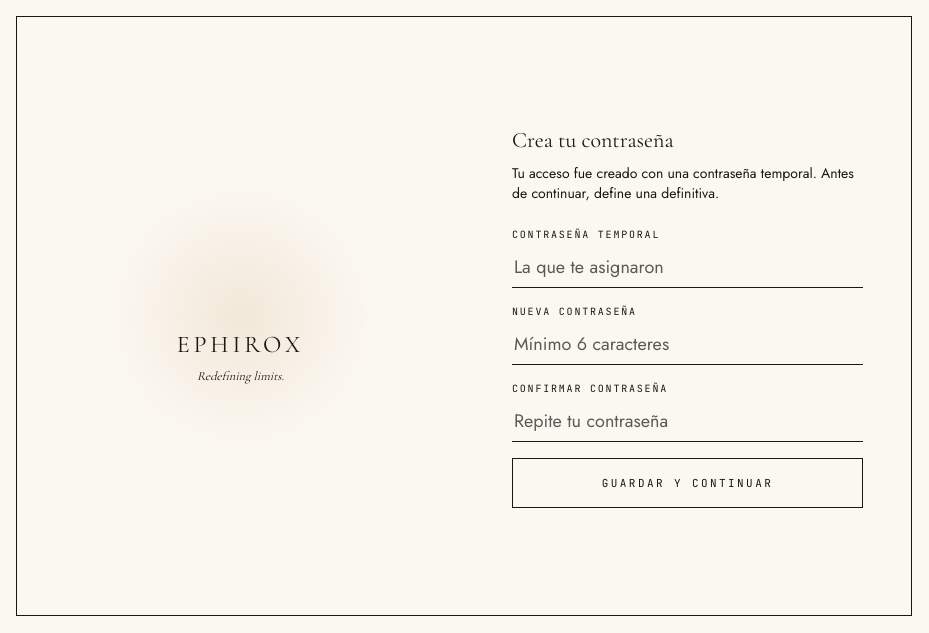
Scenario: SetPasswordPage › shows an error when the new password and confirmation do not match
Type "temporal123" into the password field labelled "Contraseña temporal" at (688, 268), box left=512, top=248, right=863, bottom=288
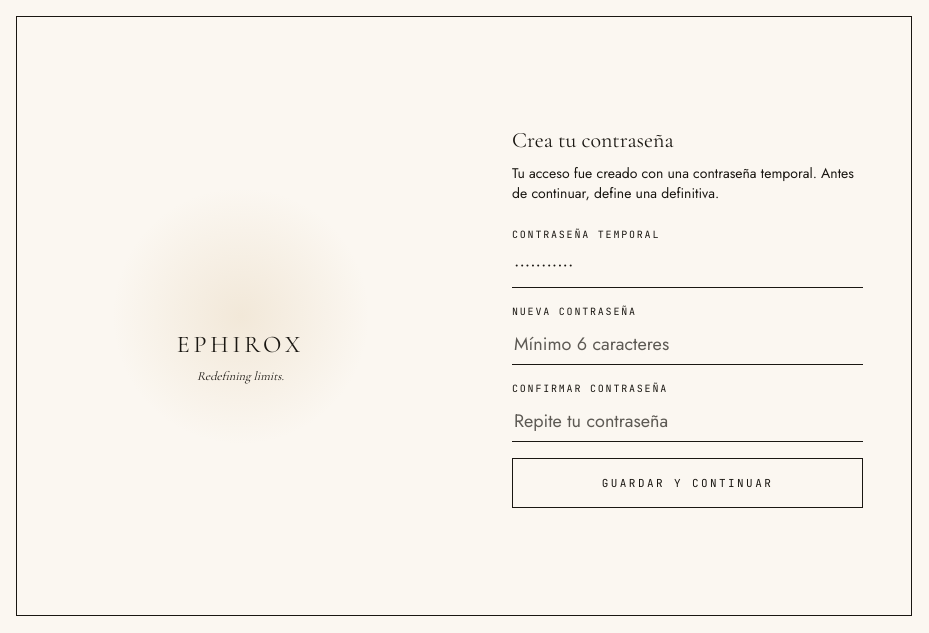
Type "nueva-buena-123" into the password field labelled "Nueva contraseña" at (688, 345), box left=512, top=325, right=863, bottom=365
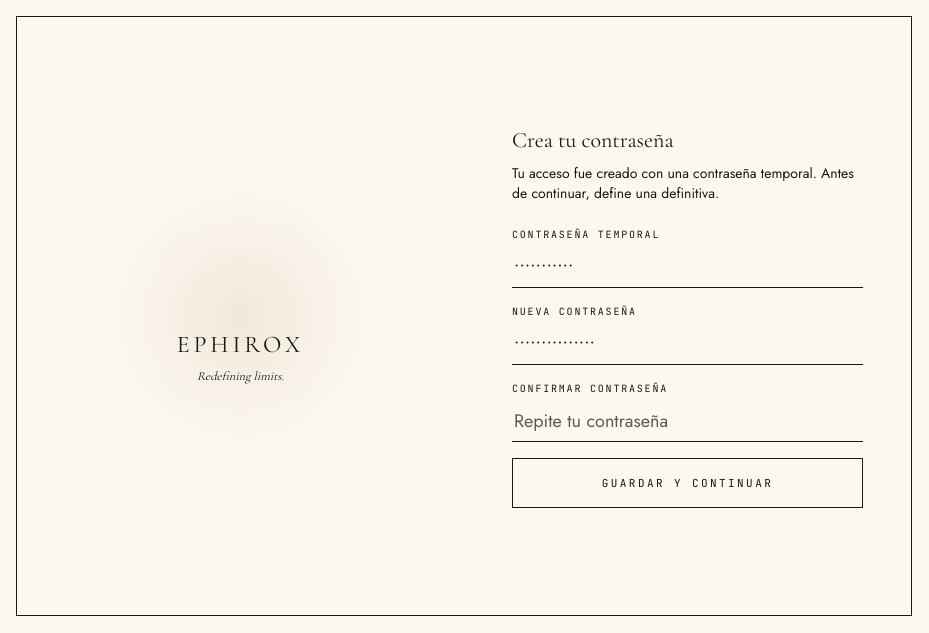
Type "otra-cosa" into the password field labelled "Confirmar contraseña" at (688, 422), box left=512, top=402, right=863, bottom=442
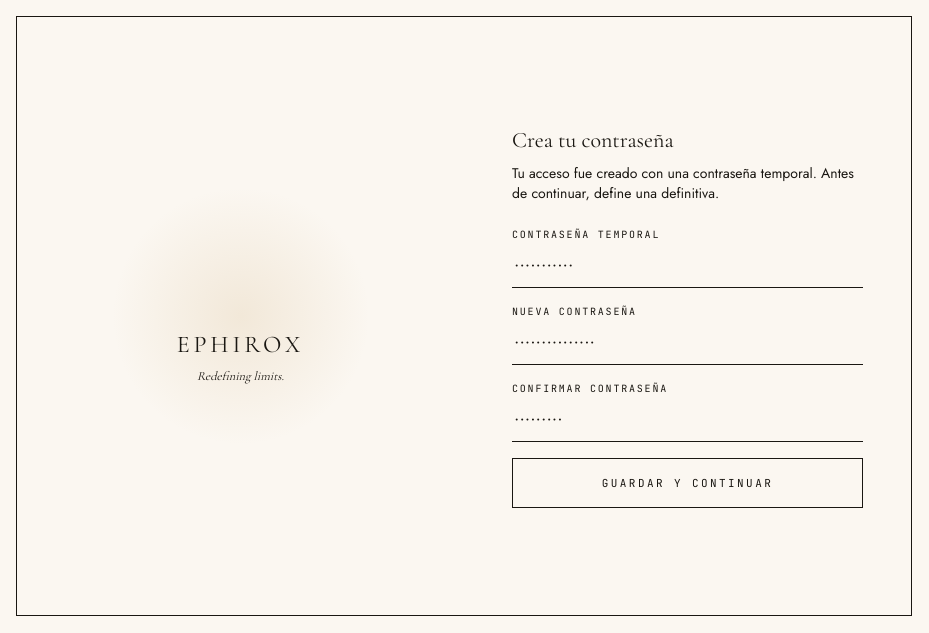
Click the button "Guardar y continuar" at (688, 483), box left=512, top=458, right=863, bottom=508
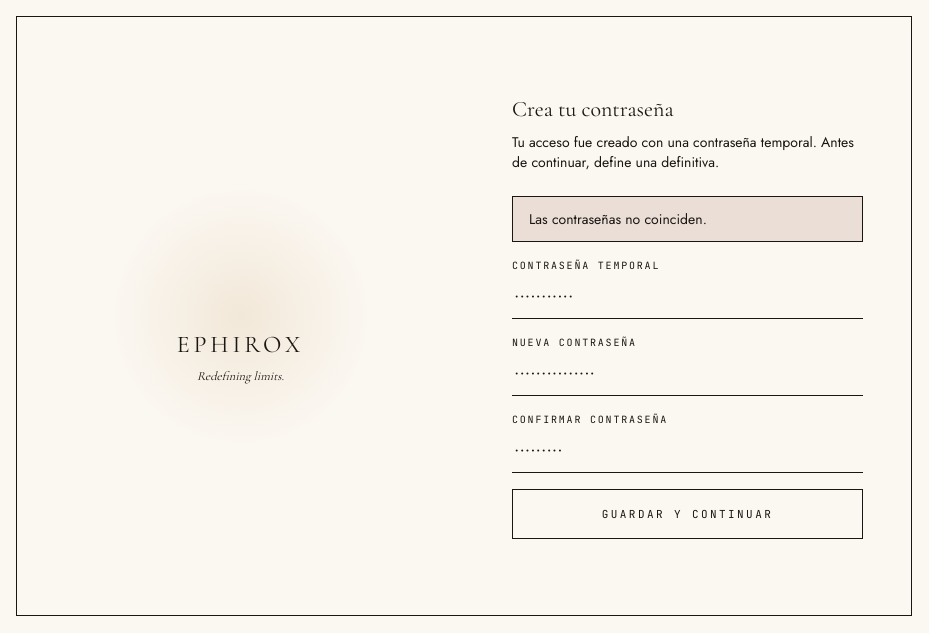
Result: the message reads "Las contraseñas no coinciden." at left=529, top=209, right=707, bottom=229
